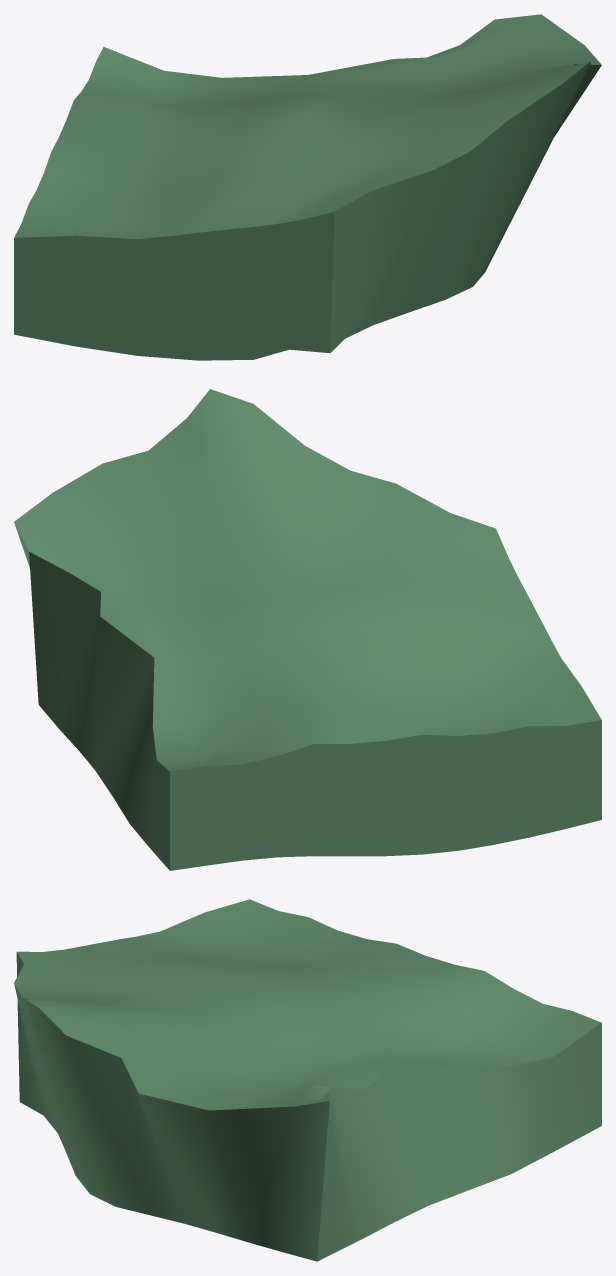
File: Hill_L.fbx
The picture shows the model from 3 angles, top to bottom: view 1: azimuth 30°, elevation 25°; view 2: azimuth 150°, elevation 25°; view 3: azimuth 270°, elevation 25°; orthographic projection. The views are drawn at different scales.
Parts seen in each view (by area): view 1: Hill1; view 2: Hill1; view 3: Hill1.
Boxes of the visible parts, x1=… form: Hill1: x1=14, y1=14, x2=601, y2=360; Hill1: x1=14, y1=389, x2=601, y2=870; Hill1: x1=14, y1=899, x2=601, y2=1261.
Size of the model in its own units: 38.25 by 15.86 by 33.
